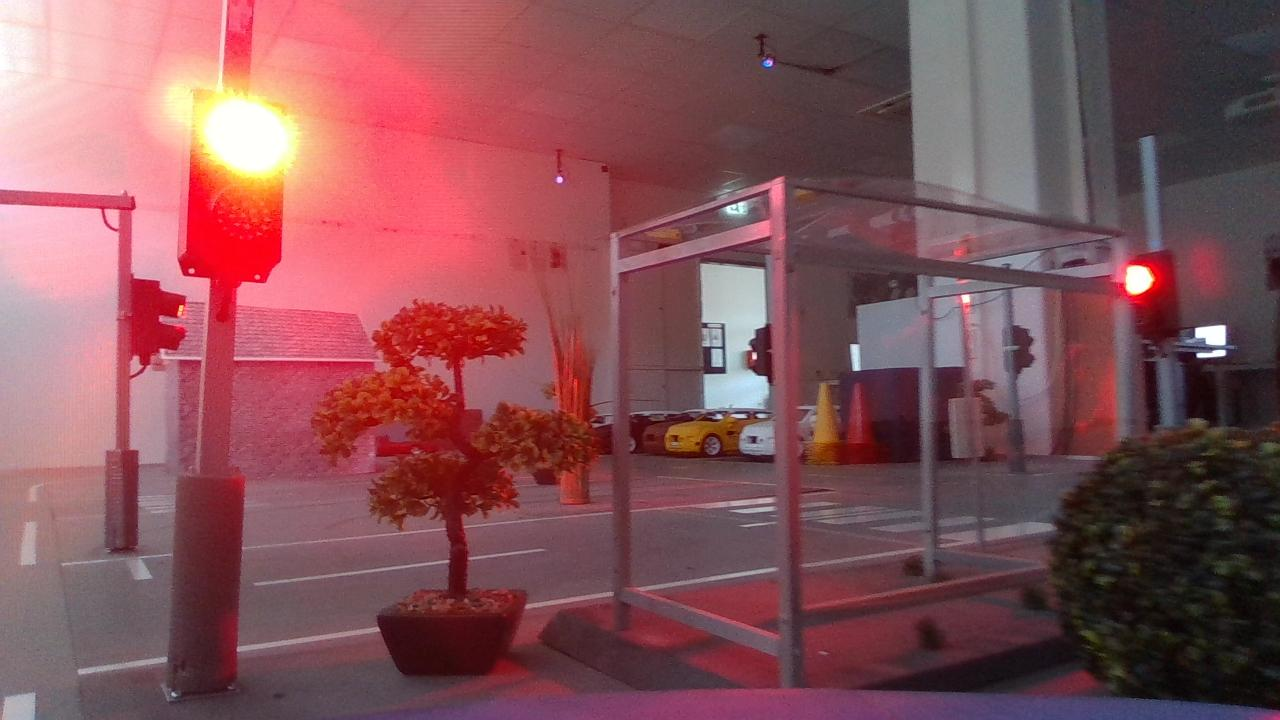traffic_light_red: (155, 69, 304, 294)
